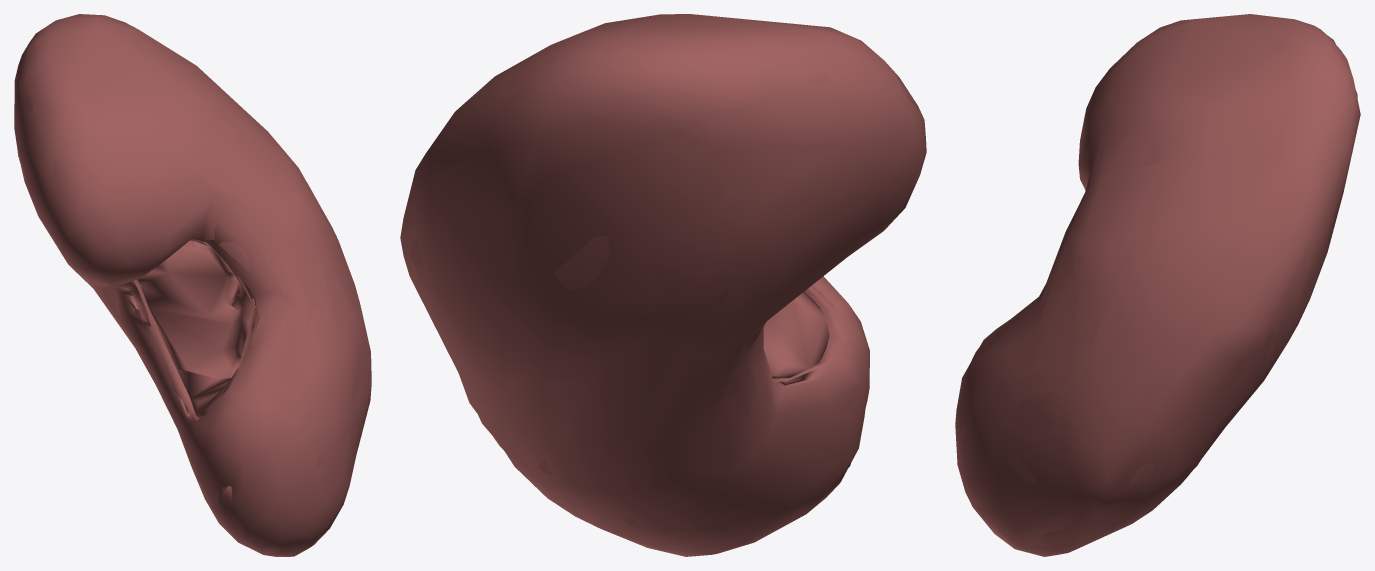
File: kidney_l.glb
3 views of the same model, side by side, from view 1: azimuth 30°, elevation 25°; view 2: azimuth 150°, elevation 25°; view 3: azimuth 270°, elevation 25° (orthographic). The views are drawn at different scales.
Parts seen in each view (by area): view 1: VH_M_kidney_capsule_L; view 2: VH_M_kidney_capsule_L; view 3: VH_M_kidney_capsule_L.
Part boxes in pixels (<box>): VH_M_kidney_capsule_L: <box>14,14,371,556</box>; VH_M_kidney_capsule_L: <box>400,14,926,556</box>; VH_M_kidney_capsule_L: <box>955,14,1360,556</box>.
Size of the model in its own units: 0.0757 by 0.1062 by 0.0823.
